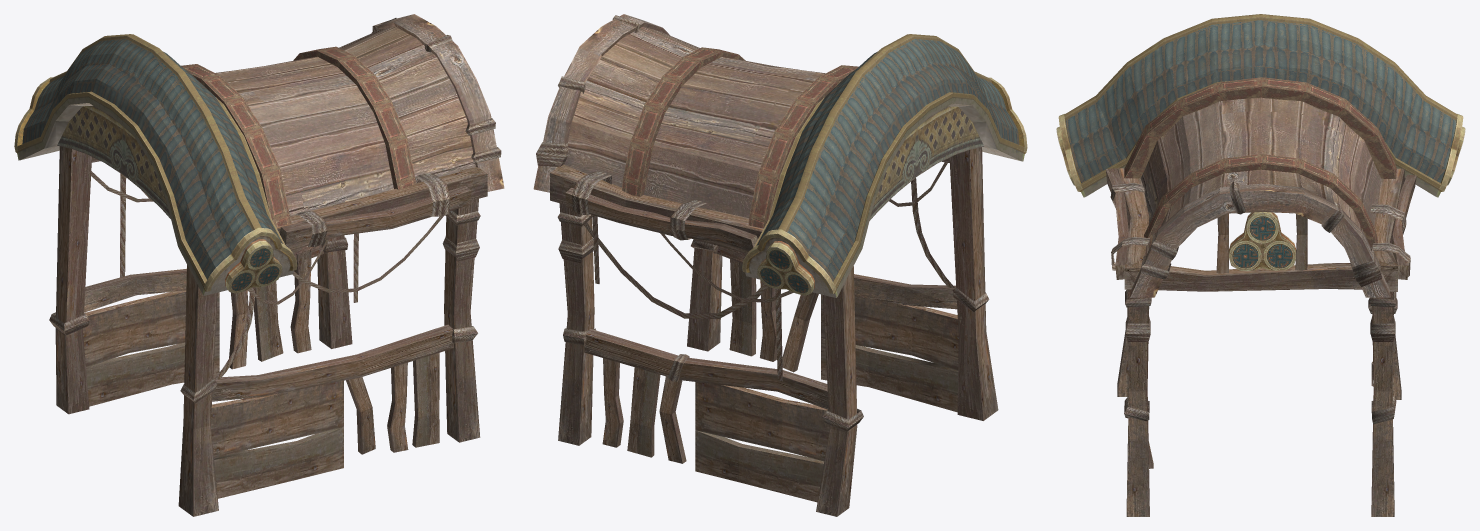
The model's file is bg_anh_delphiinn_stable01_sm_ysi.FBX.
3 renders of one model, left to right at view 1: azimuth 30°, elevation 25°; view 2: azimuth 150°, elevation 25°; view 3: azimuth 270°, elevation 25°, orthographic. The views are drawn at different scales.
Parts seen in each view (by area): view 1: bg_anh_delphiinn_stable01_sm_ysi; view 2: bg_anh_delphiinn_stable01_sm_ysi; view 3: bg_anh_delphiinn_stable01_sm_ysi.
Part boxes in pixels (bbox=[...]): bg_anh_delphiinn_stable01_sm_ysi: bbox=[14, 14, 504, 516]; bg_anh_delphiinn_stable01_sm_ysi: bbox=[533, 14, 1027, 516]; bg_anh_delphiinn_stable01_sm_ysi: bbox=[1056, 14, 1465, 516].
Bounding box in the file's own units: 347 × 409 × 390.
